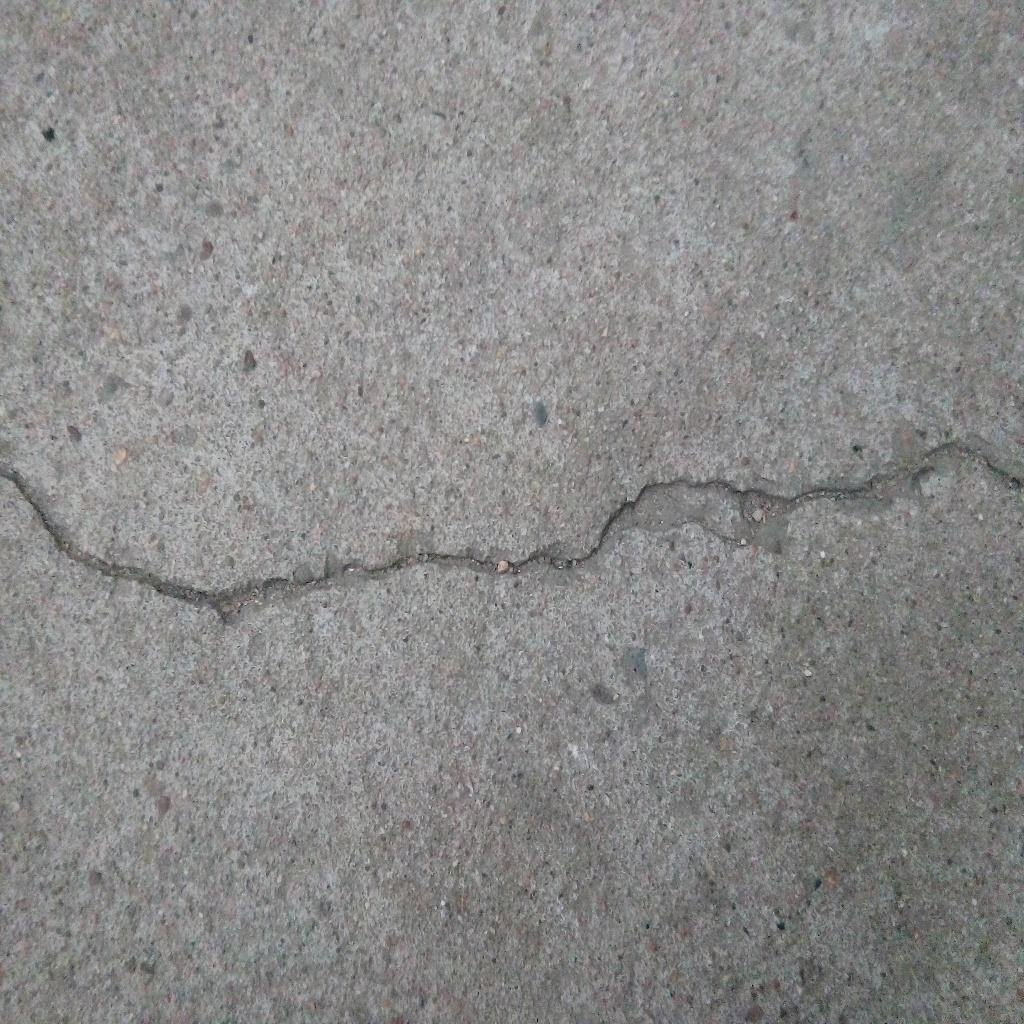Crack: (1, 433, 1024, 627)
